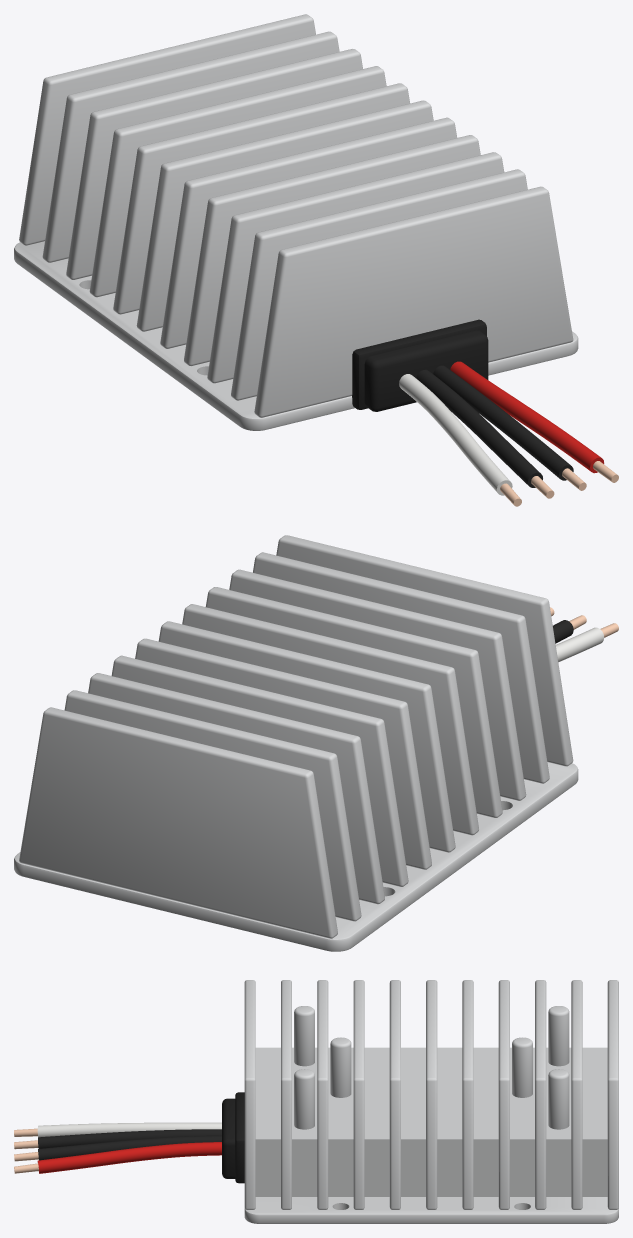
Rendered from DC-DC_Converter_12V_10A.glb.
The picture shows the model from 3 angles, top to bottom: view 1: azimuth 30°, elevation 25°; view 2: azimuth 150°, elevation 25°; view 3: azimuth 270°, elevation 25°; orthographic projection. The views are drawn at different scales.
Parts seen in each view (by area): view 1: Housing_Fins, Housing_BasePlate, Cable_Grommet, Wire_IN_plus_Red, Wire_IN_minus_Black, Wire_OUT_minus_Black, Wire_OUT_plus_White, Cable_Grommet_Lip; view 2: Housing_Fins, Housing_BasePlate, Wire_OUT_plus_White; view 3: Housing_Core, Housing_Fins, Housing_BasePlate, Housing_Studs, Wire_IN_plus_Red, Wire_OUT_plus_White, Wire_OUT_minus_Black, Wire_IN_minus_Black, Cable_Grommet, Cable_Grommet_Lip.
Part boxes in pixels (x1,y1,x2,y2): Housing_Fins: (19, 14, 573, 417); Housing_BasePlate: (14, 241, 578, 430); Cable_Grommet: (364, 330, 488, 411); Wire_IN_plus_Red: (450, 361, 604, 473); Wire_IN_minus_Black: (433, 365, 573, 480); Wire_OUT_minus_Black: (416, 369, 542, 487); Wire_OUT_plus_White: (399, 374, 512, 495); Cable_Grommet_Lip: (352, 319, 486, 409); Housing_Fins: (19, 535, 573, 938); Housing_BasePlate: (14, 762, 578, 951); Wire_OUT_plus_White: (555, 627, 604, 662); Housing_Core: (255, 1047, 607, 1196); Housing_Fins: (244, 980, 618, 1209); Housing_BasePlate: (244, 1197, 618, 1223); Housing_Studs: (294, 1006, 569, 1129); Wire_IN_plus_Red: (37, 1142, 221, 1173); Wire_OUT_plus_White: (37, 1122, 221, 1137); Wire_OUT_minus_Black: (38, 1129, 221, 1148); Wire_IN_minus_Black: (38, 1135, 221, 1160); Cable_Grommet: (222, 1098, 235, 1178); Cable_Grommet_Lip: (235, 1092, 244, 1183).
Bounding box in the file's own units: 0.08 × 0.039 × 0.1616.
